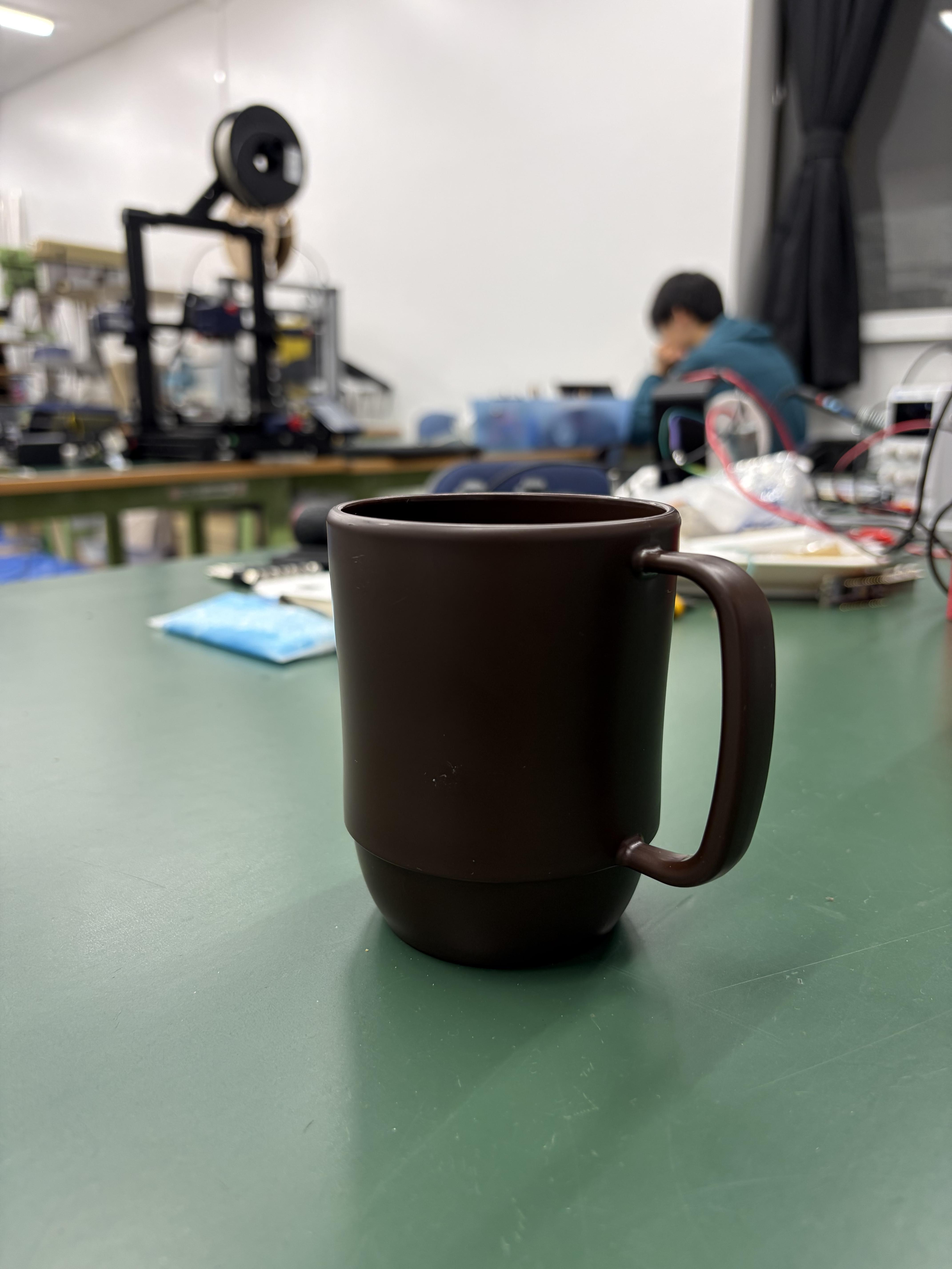mug-real100-3d100: (328, 492, 775, 966)
